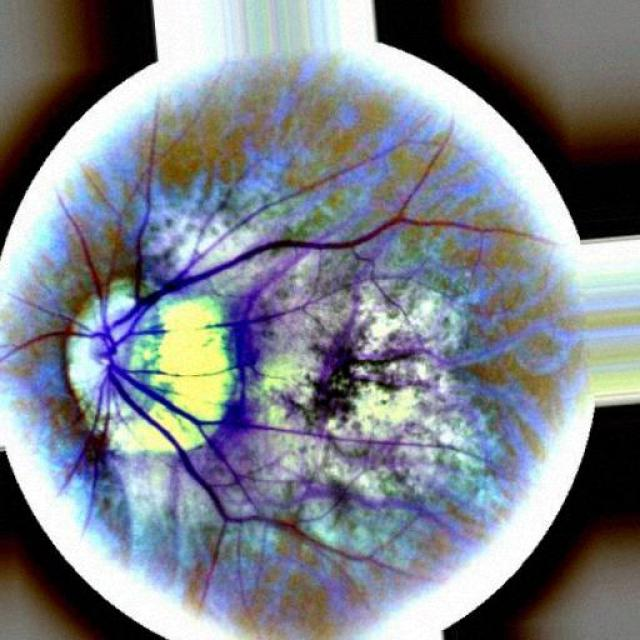Nerves: (60, 190, 522, 570)
Optic Disk: (68, 295, 236, 455), (106, 279, 134, 321)
